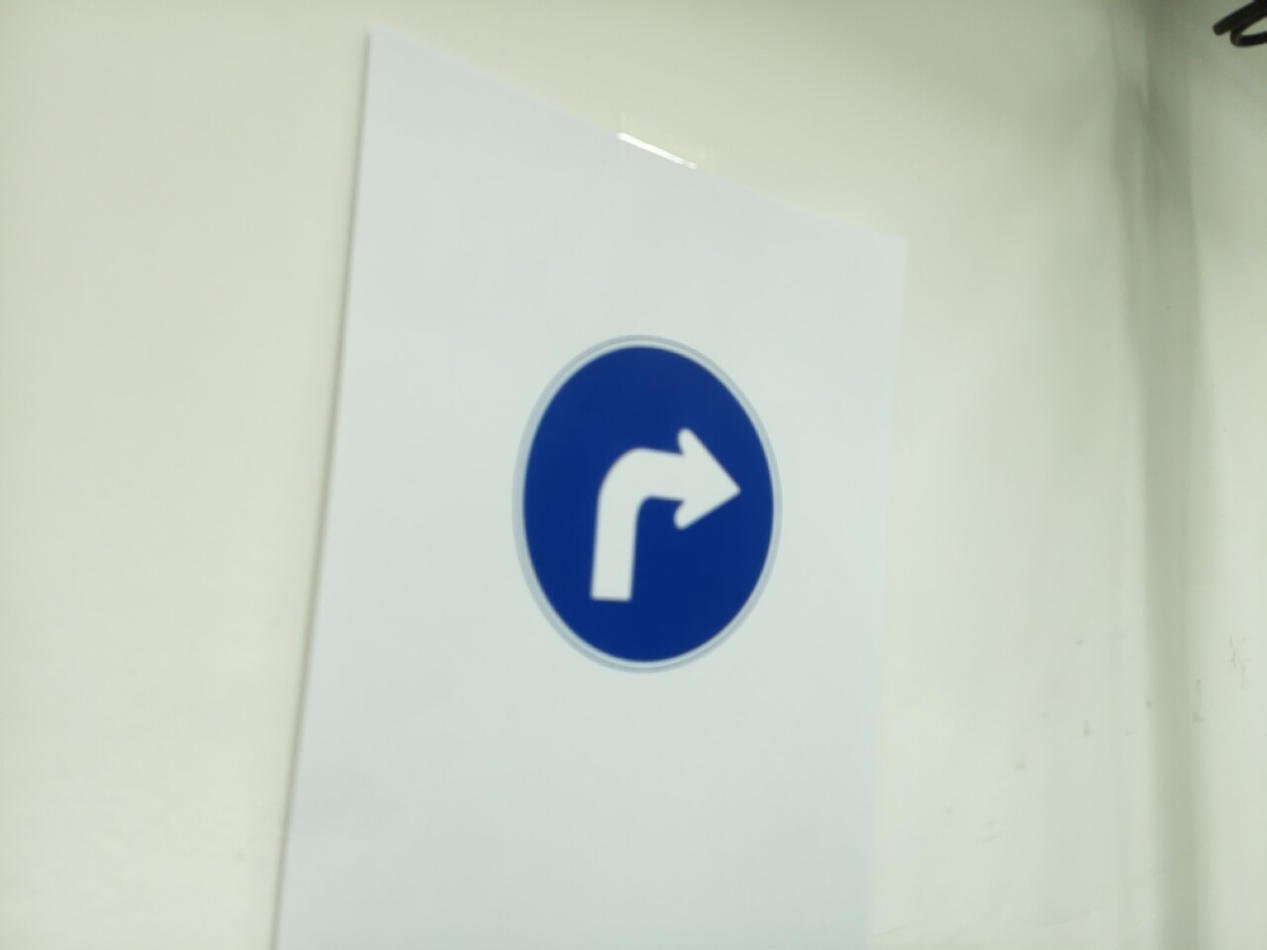right_turn: (514, 336, 783, 672)
